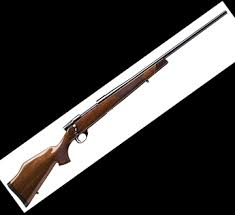gun: (6, 10, 229, 210)
